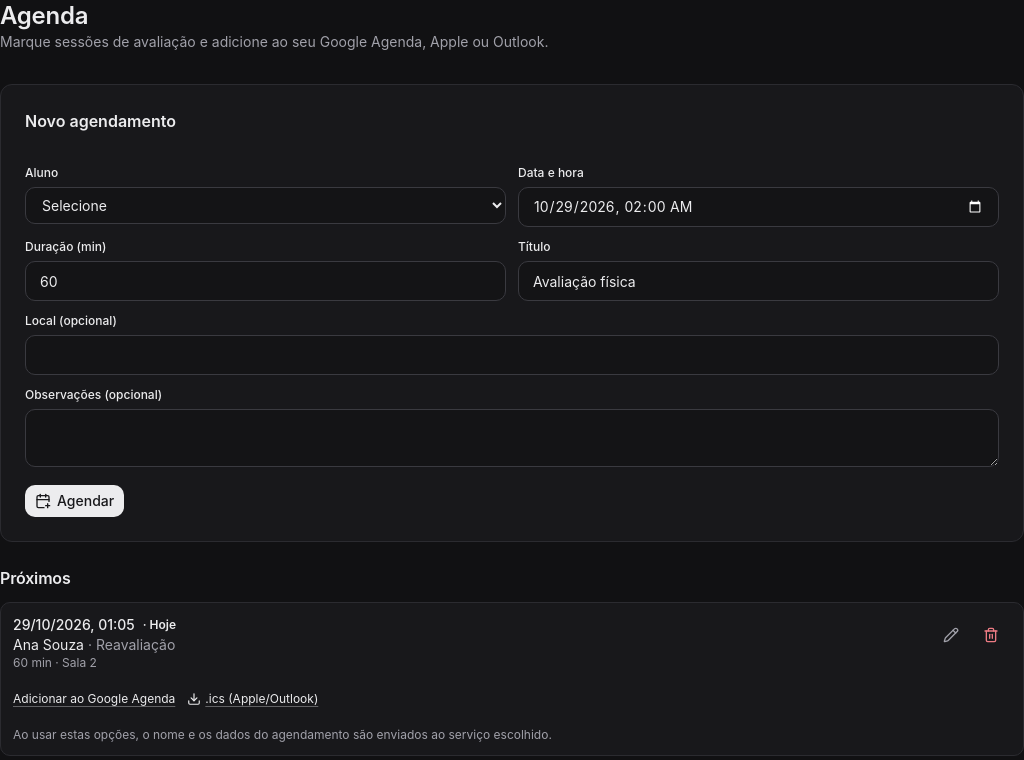
Scenario: Agenda › duração fracionada é recusada na tela, antes de ir ao banco
Step 1. Click the button named "Editar agendamento de Ana Souza" → (951, 635), box [931, 615, 971, 655]
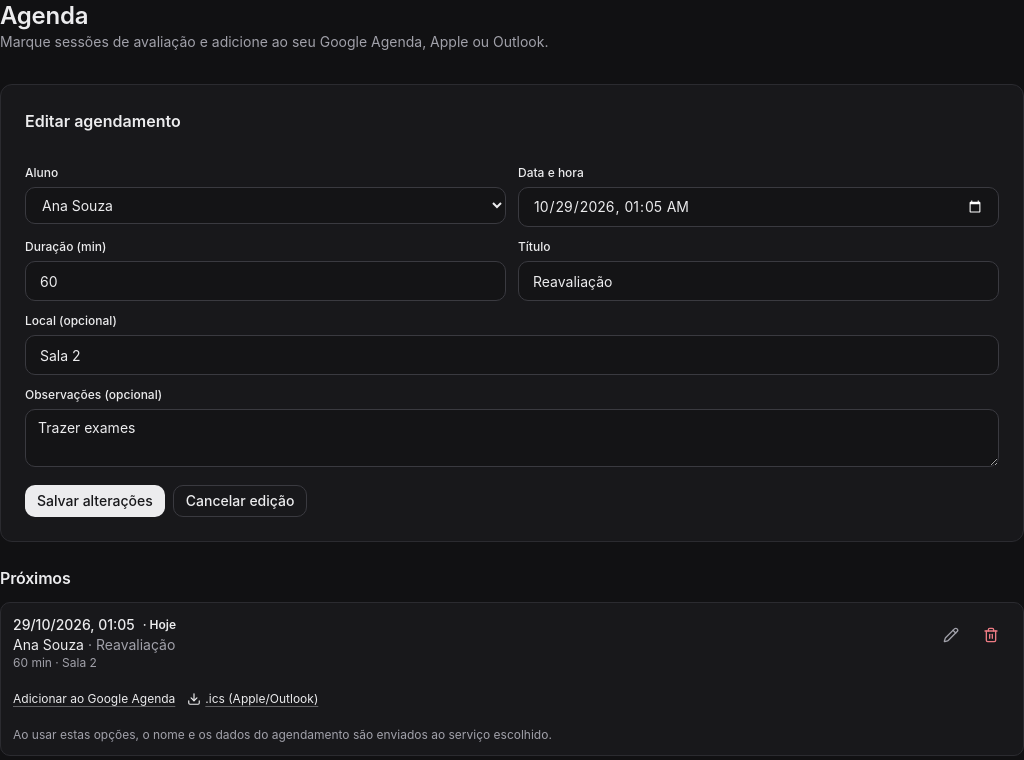
Step 2. Replace the text in the number field labelled "Duração (min)" with "7.5" → (266, 281), box [25, 261, 506, 301]
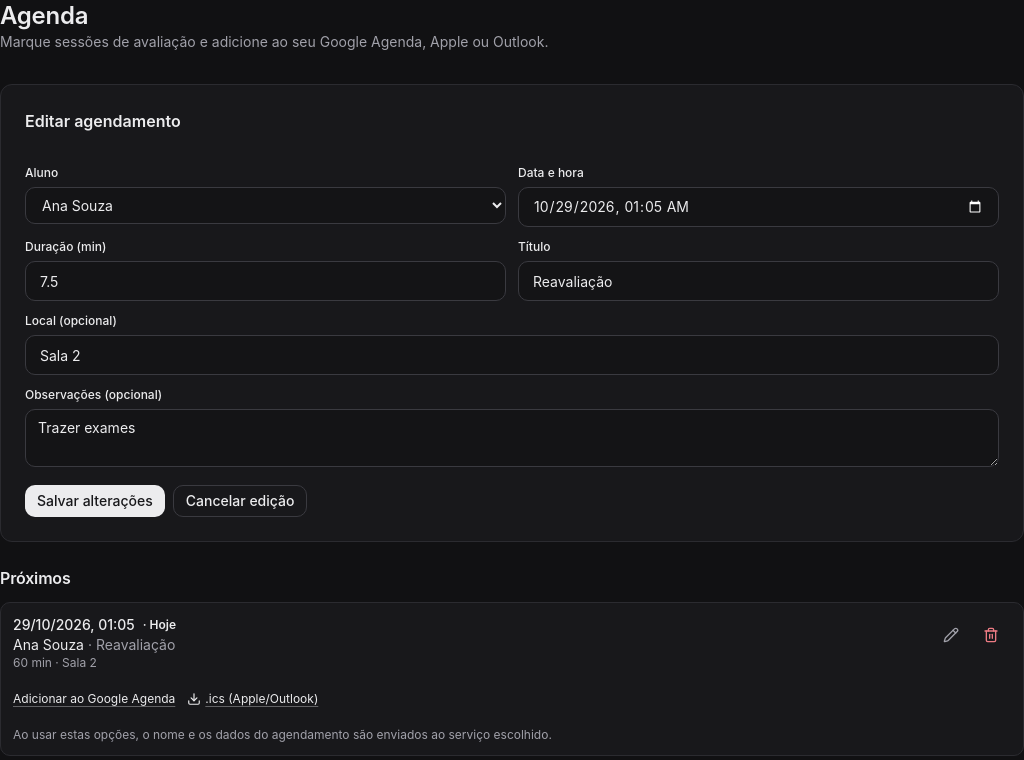
Step 3. Click the button "Salvar alterações" → (95, 501), box [25, 485, 165, 517]
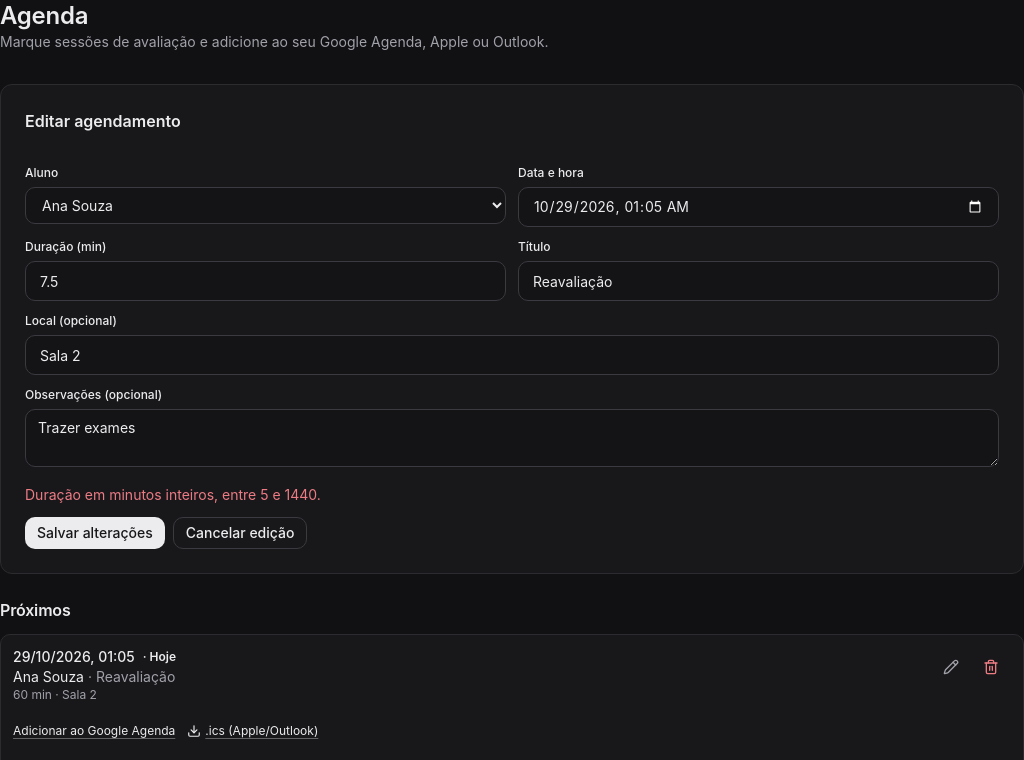
Check: the text "Duração em minutos inteiros, entre 5 e 1440." is shown, box [25, 486, 321, 503]
